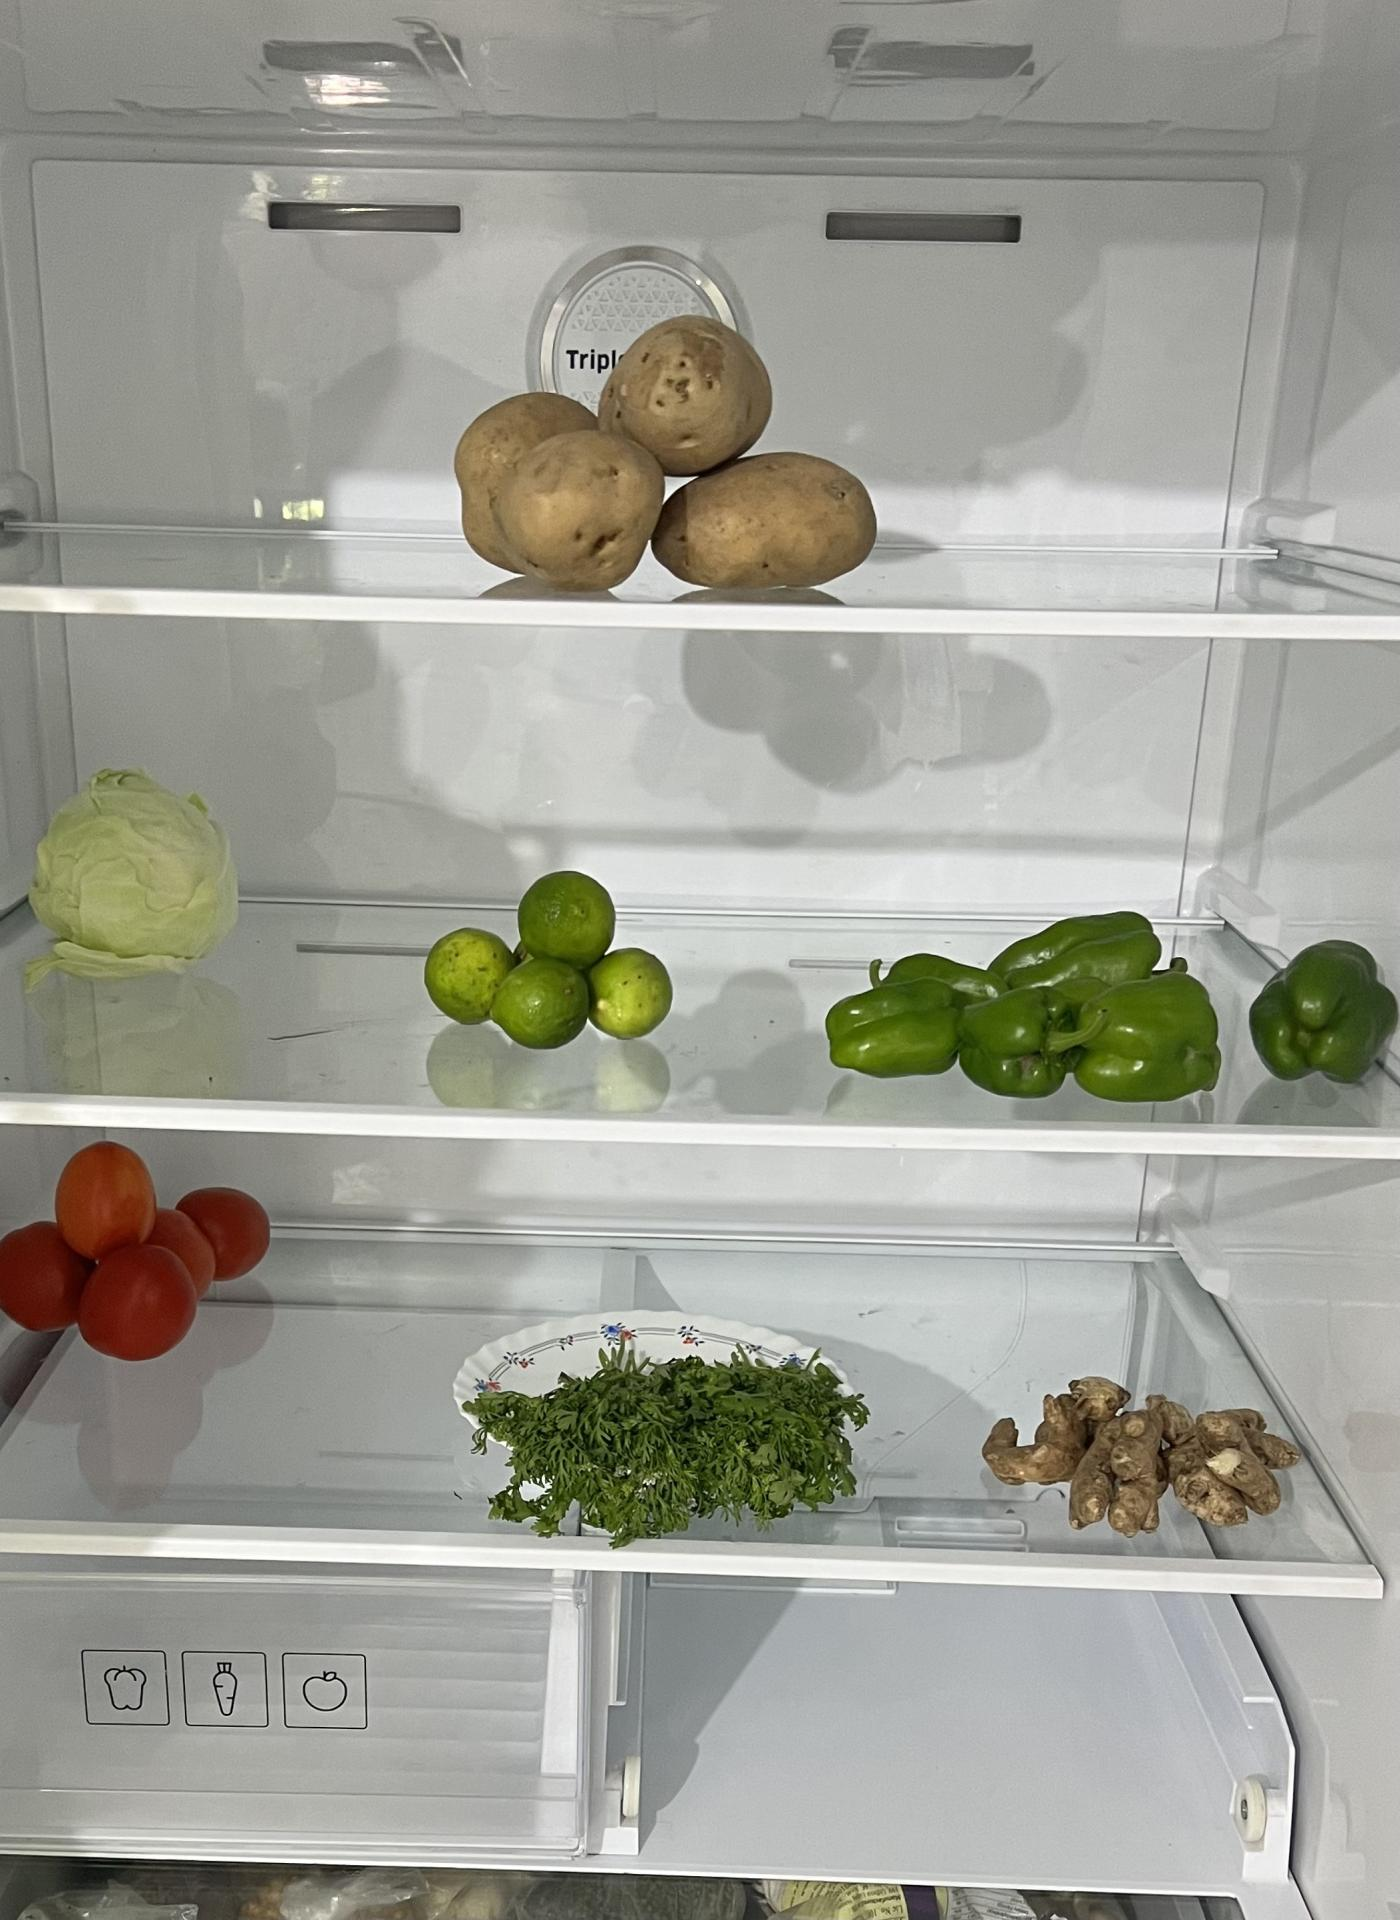cabbage: (28, 765, 239, 969)
capsicum: (816, 897, 1223, 1096), (1251, 932, 1394, 1079)
coriander: (461, 1342, 869, 1541)
ginger: (987, 1370, 1306, 1540)
lemon: (426, 862, 668, 1045)
potato: (458, 318, 877, 590)
tomato: (21, 1130, 268, 1365)
